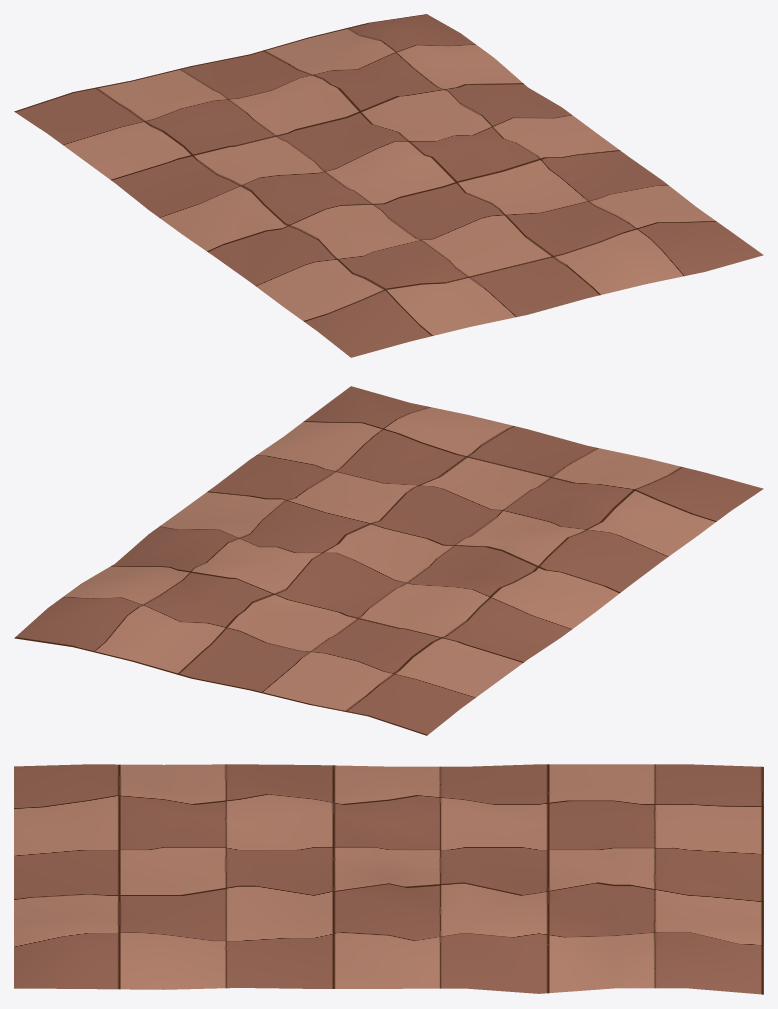
The model's file is Grilla_blocking.fbx.
3 renders of one model, top to bottom at view 1: azimuth 30°, elevation 25°; view 2: azimuth 150°, elevation 25°; view 3: azimuth 270°, elevation 25°, orthographic. The views are drawn at different scales.
Parts seen in each view (by area): view 1: Grilla; view 2: Grilla; view 3: Grilla.
Boxes of the visible parts, <box> form: Grilla: <box>14,14,763,357</box>; Grilla: <box>14,386,763,735</box>; Grilla: <box>14,764,763,994</box>.
Size of the model in its own units: 10 by 0.553 by 14.14.
